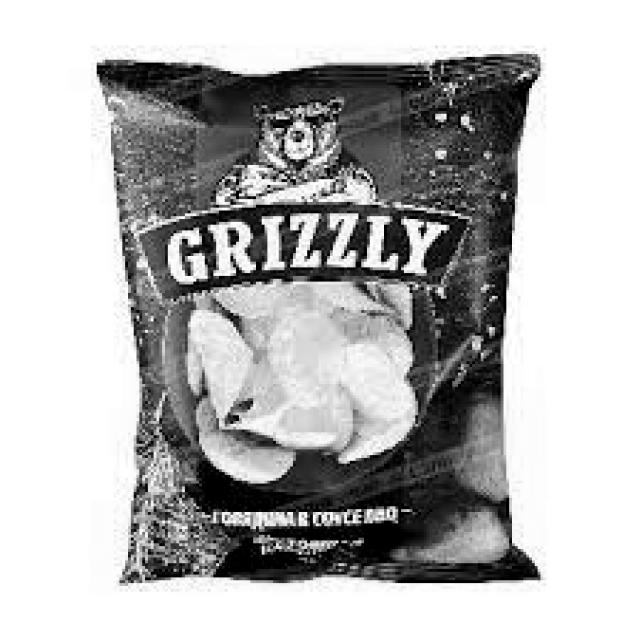grizzly: (125, 101, 474, 297)
